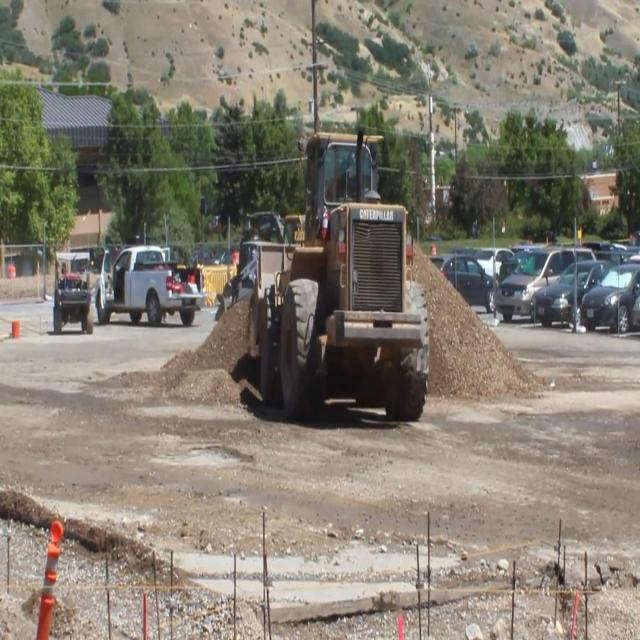Loader: (238, 126, 436, 430)
